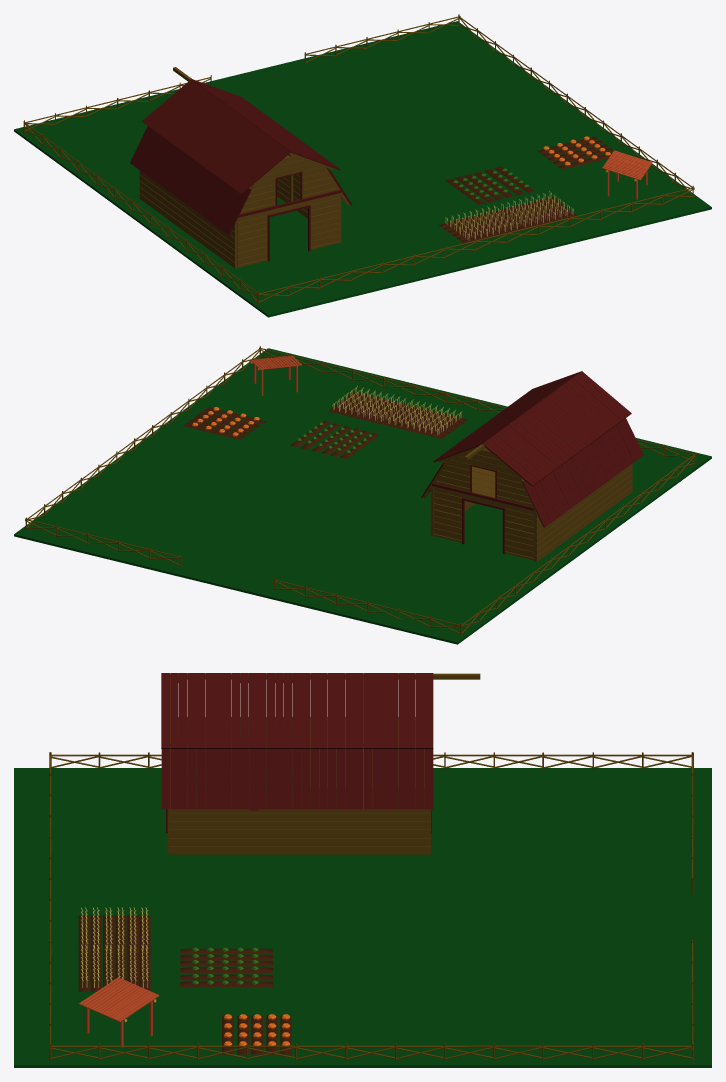
The model's file is FarmAge2.fbx.
3 renders of one model, top to bottom at view 1: azimuth 30°, elevation 25°; view 2: azimuth 150°, elevation 25°; view 3: azimuth 270°, elevation 25°, orthographic. The views are drawn at different scales.
Visible parts, largest first — view 1: Cube.285, Cube.051, Cube.052, Cube.053, Cube.054, Cube.227, Cube.055; view 2: Cube.285, Cube.051, Cube.052, Cube.053, Cube.054, Cube.050, Cube.055; view 3: Cube.285, Cube.183, Cube.184, Cube.185, Cube.186, Cube.187, Cube.188, Cube.061, Cube.082, Cube.098, Cube.102, Cube.122 (+28 smaller).
Boxes of the visible parts, x1=… form: Cube.285: x1=14, y1=21, x2=711, y2=317; Cube.051: x1=139, y1=193, x2=235, y2=268; Cube.052: x1=139, y1=187, x2=235, y2=262; Cube.053: x1=139, y1=181, x2=235, y2=255; Cube.054: x1=139, y1=175, x2=235, y2=249; Cube.227: x1=236, y1=193, x2=340, y2=222; Cube.055: x1=139, y1=170, x2=235, y2=243; Cube.285: x1=14, y1=348, x2=711, y2=644; Cube.051: x1=536, y1=486, x2=632, y2=561; Cube.052: x1=536, y1=480, x2=632, y2=555; Cube.053: x1=536, y1=474, x2=632, y2=549; Cube.054: x1=536, y1=468, x2=632, y2=543; Cube.050: x1=434, y1=486, x2=533, y2=515; Cube.055: x1=536, y1=463, x2=632, y2=537; Cube.285: x1=14, y1=768, x2=711, y2=1067; Cube.183: x1=169, y1=846, x2=430, y2=854; Cube.184: x1=169, y1=838, x2=430, y2=846; Cube.185: x1=169, y1=829, x2=430, y2=837; Cube.186: x1=169, y1=821, x2=430, y2=829; Cube.187: x1=169, y1=813, x2=430, y2=821; Cube.188: x1=169, y1=805, x2=430, y2=812; Cube.061: x1=424, y1=673, x2=433, y2=748; Cube.082: x1=380, y1=673, x2=389, y2=748; Cube.098: x1=345, y1=673, x2=354, y2=748; Cube.102: x1=336, y1=673, x2=345, y2=748; Cube.122: x1=292, y1=673, x2=301, y2=748.
Size of the model in its own units: 1107 by 258 by 1099.
